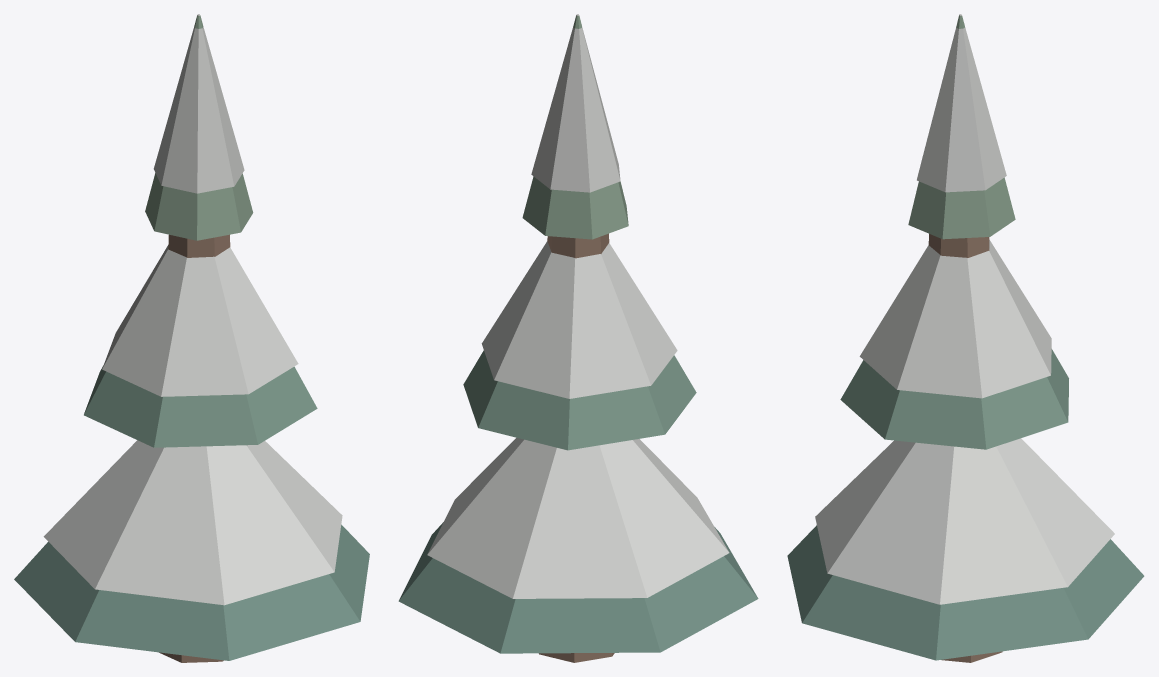
The picture shows the model from 3 angles, left to right: view 1: azimuth 30°, elevation 25°; view 2: azimuth 150°, elevation 25°; view 3: azimuth 270°, elevation 25°; orthographic projection.
Parts seen in each view (by area): view 1: T04; view 2: T04; view 3: T04.
Boxes of the visible parts, x1,y1,x2,y2 form: T04: [14, 14, 369, 662]; T04: [398, 14, 758, 662]; T04: [787, 14, 1144, 662].
Bounding box in the file's own units: 0.9175 × 1.77 × 0.9131.
